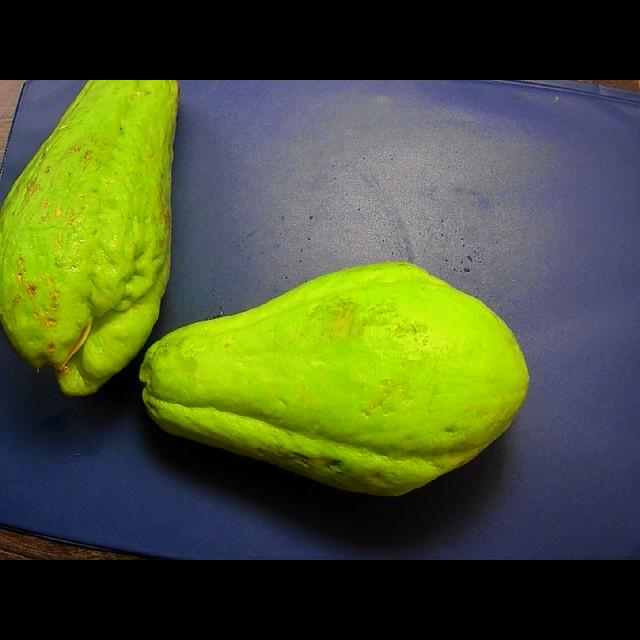chayote: (140, 263, 528, 495), (1, 80, 178, 394)
